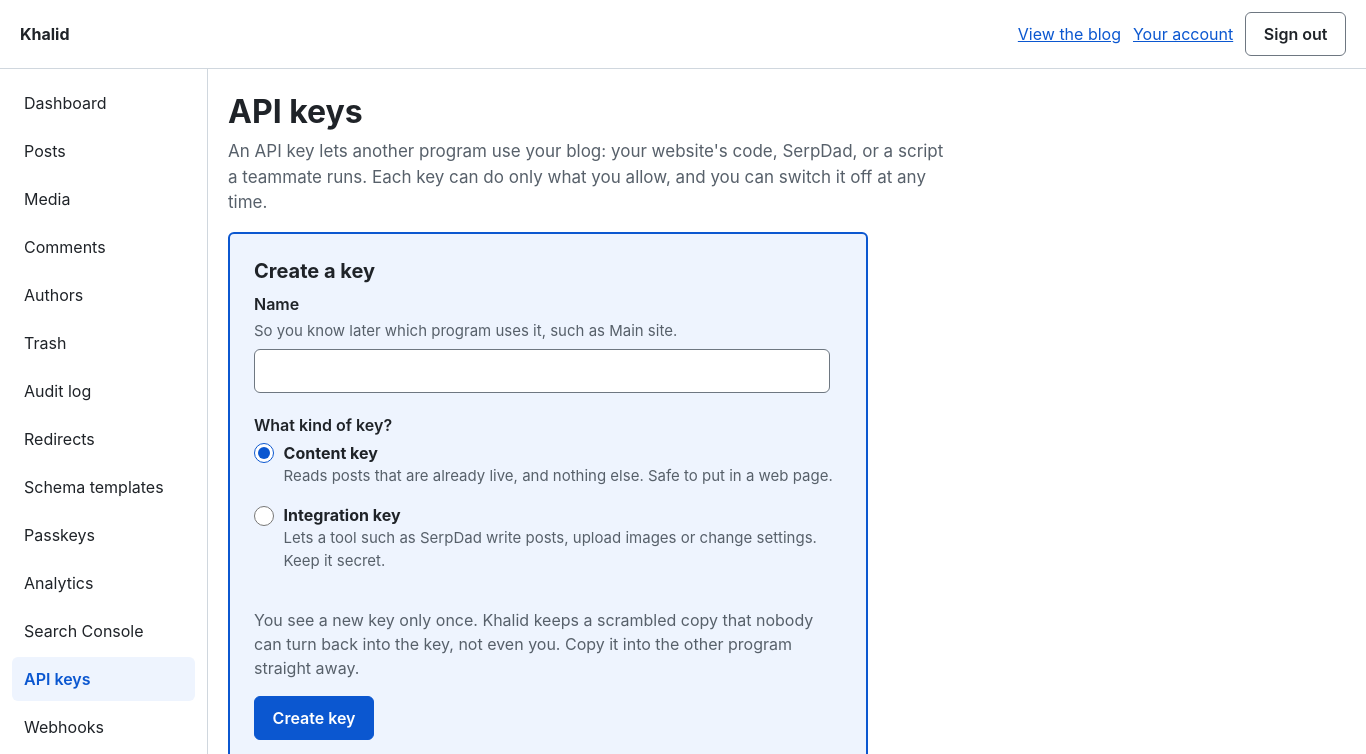
Test case: the API keys screen › makes a content key with no scopes
The image size is (1366, 754).
Type "Web page" into the field labelled "Name".
click(542, 371); type("Web page")  # box [254,349,830,393]
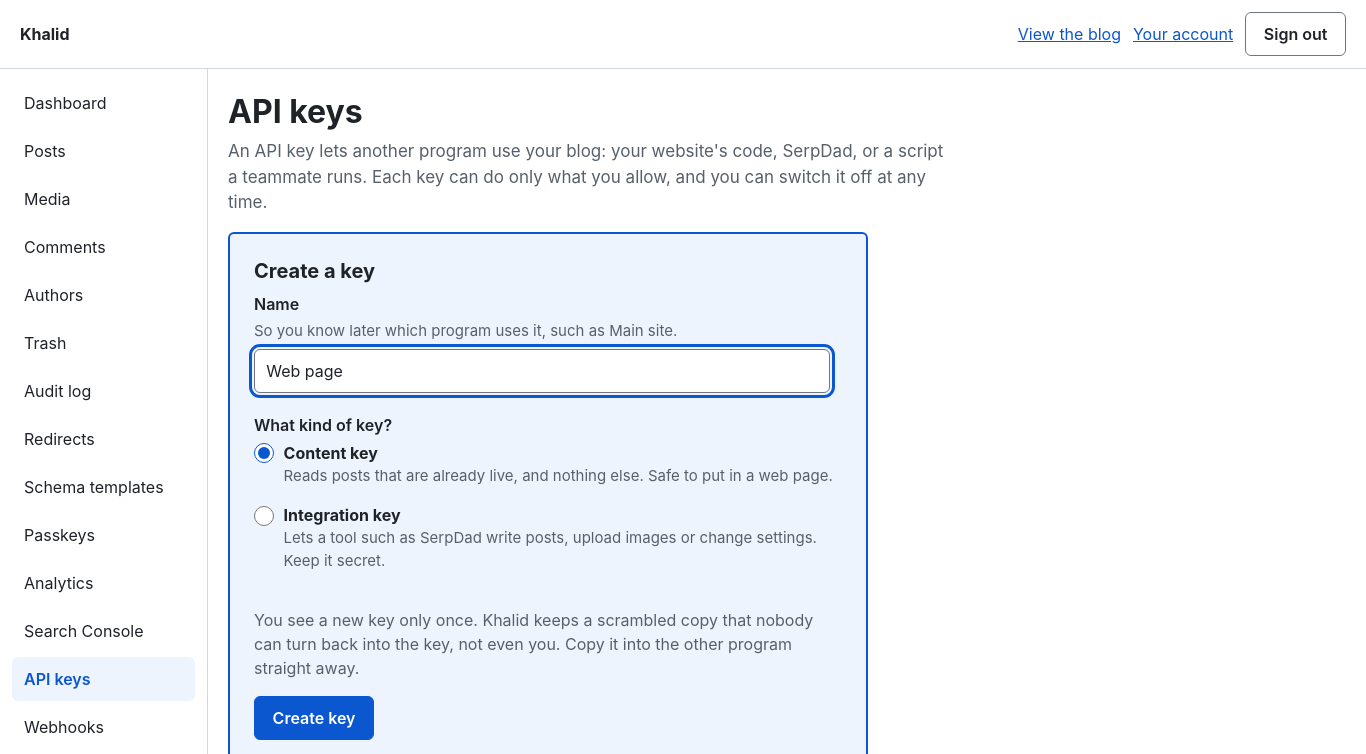
Click the button "Create key".
click(314, 718)  # box [254,696,374,740]
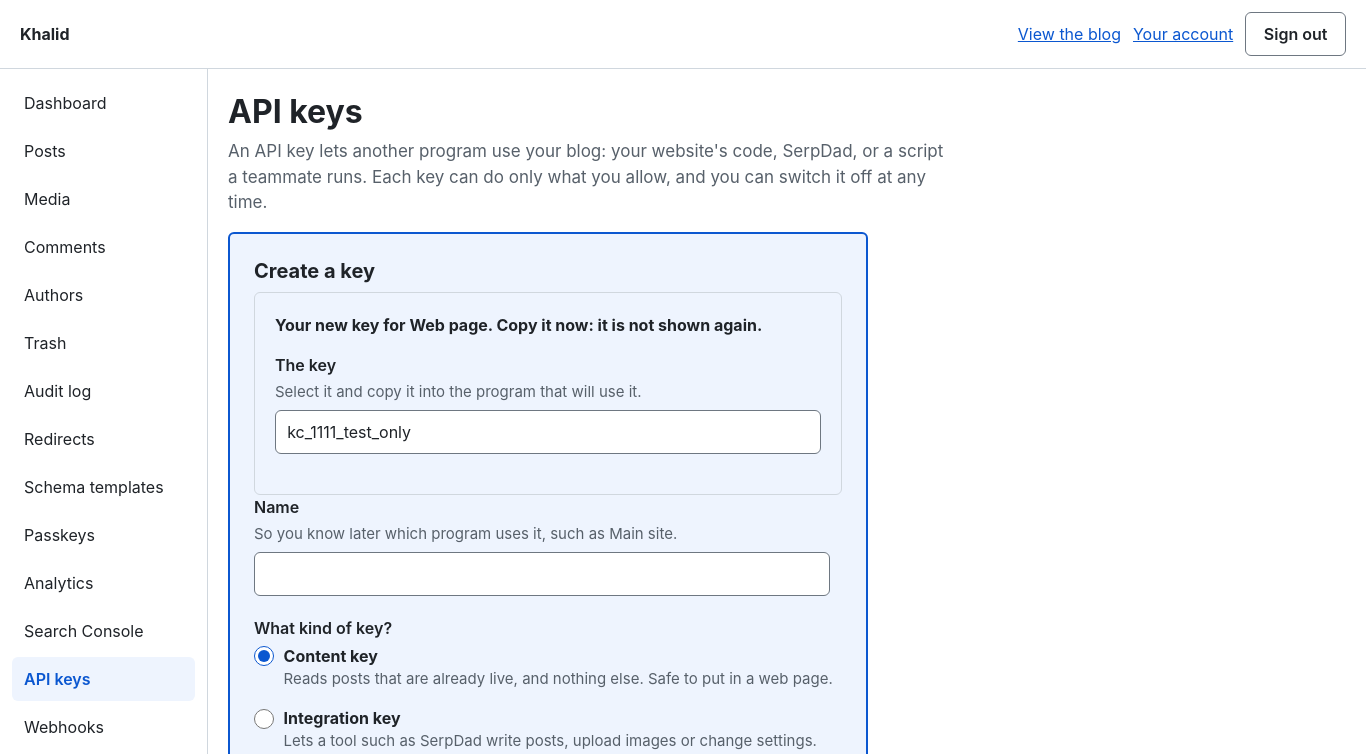
Expected: the field labelled "The key" is shown, [275,410,821,454]
